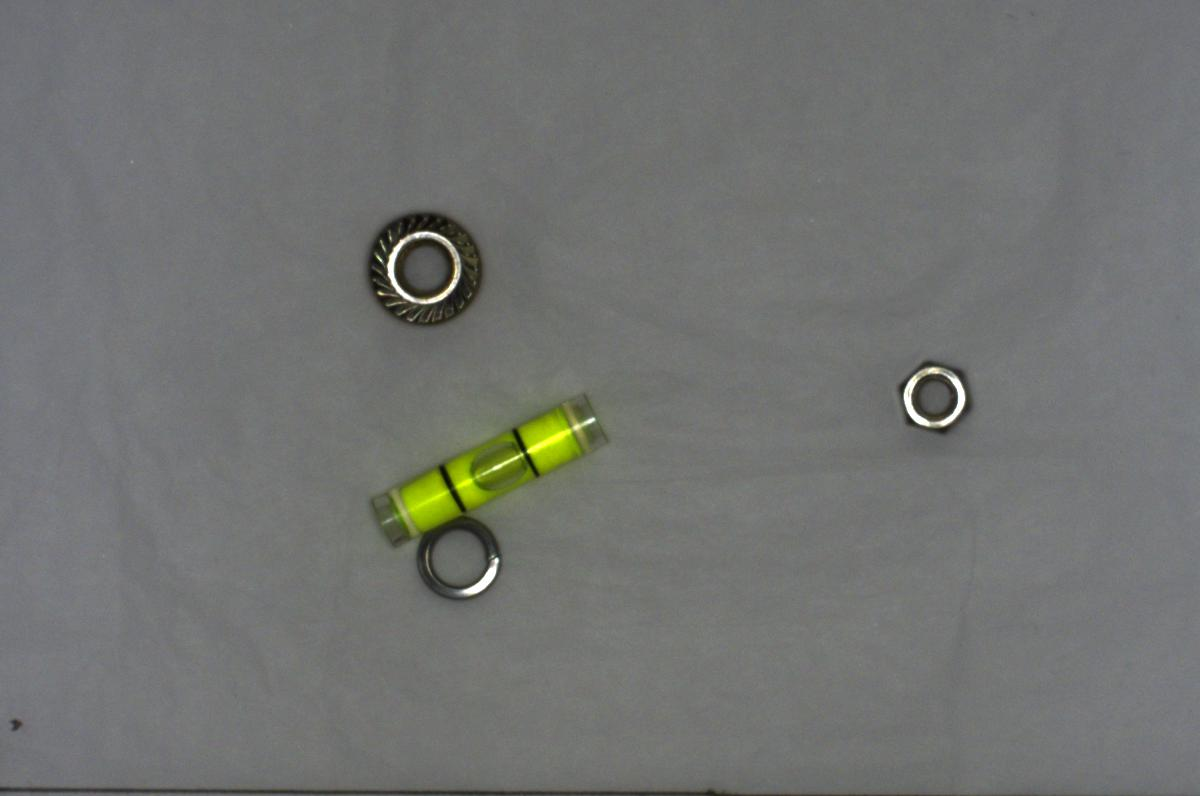Flange nut: (352, 201, 497, 332)
Hexagon nut: (881, 350, 982, 442)
Horizontal bubble: (352, 387, 602, 548)
Spring washer: (411, 510, 517, 602)
